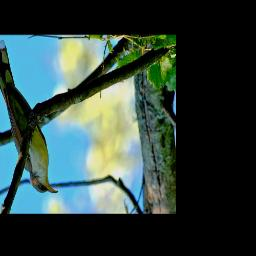Cuckoo: (0, 41, 58, 194)
